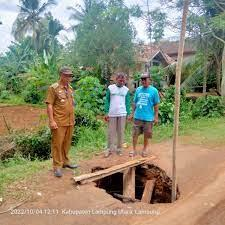Pothole: (81, 143, 183, 225)
